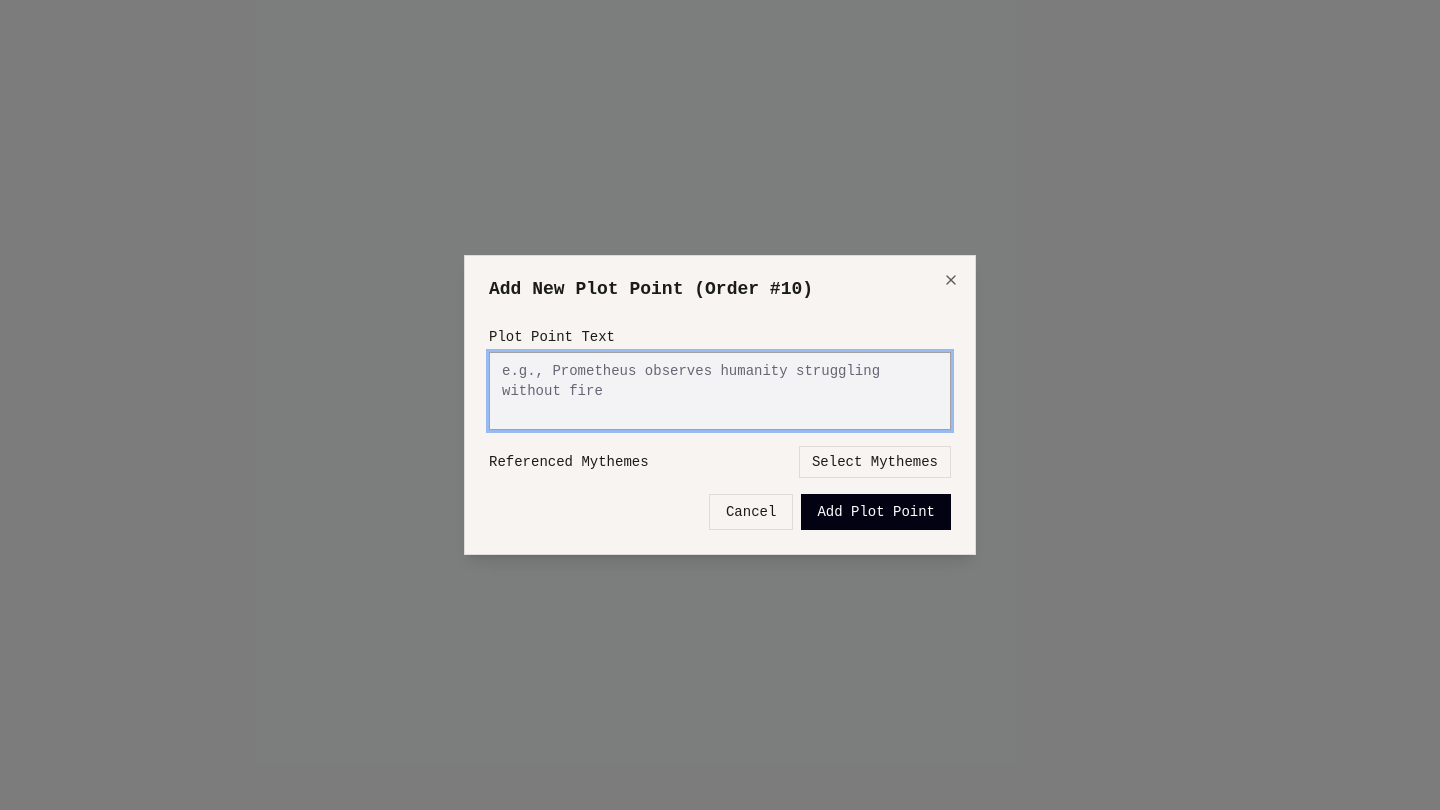
Scenario: AddPlotPointDialog › allows removing mythemes and handles submission error
Type "Zeus notices the theft." into the text box labelled "Plot Point Text" at (720, 391), box [489, 352, 951, 430]
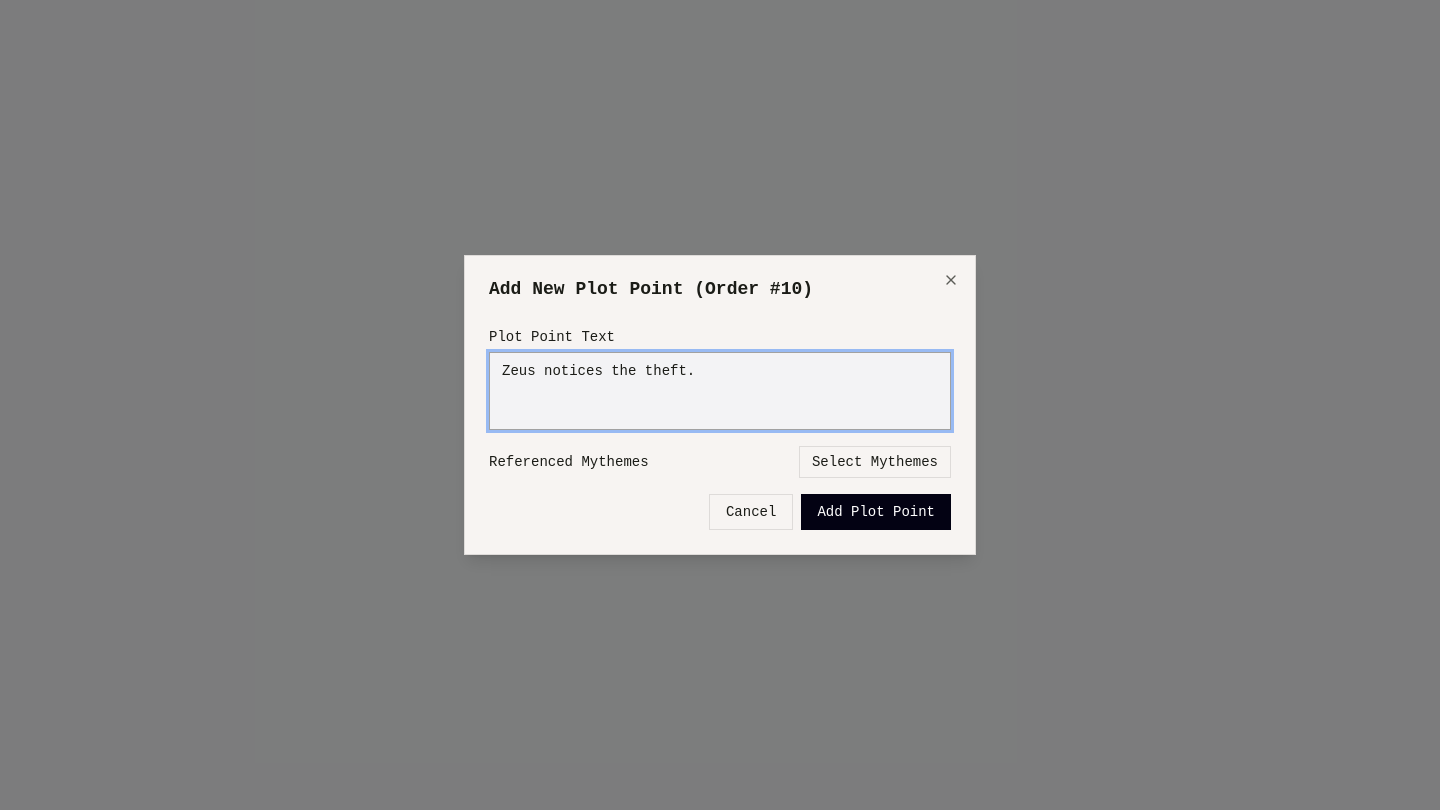
Click the button "Select Mythemes" at (875, 462), box [799, 446, 951, 478]
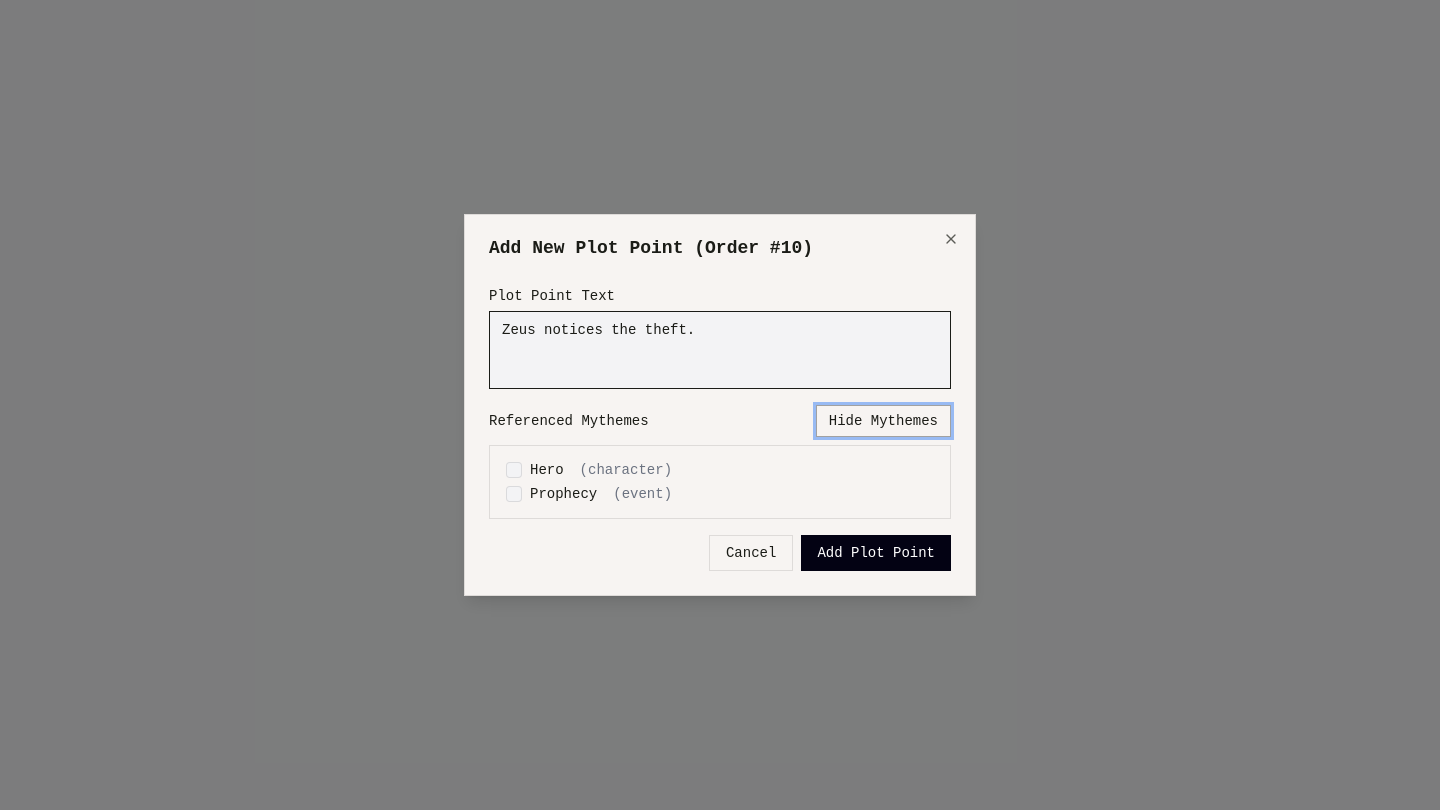
Click the checkbox named "hero" next to "Hero" at (514, 470), box [506, 462, 522, 478]
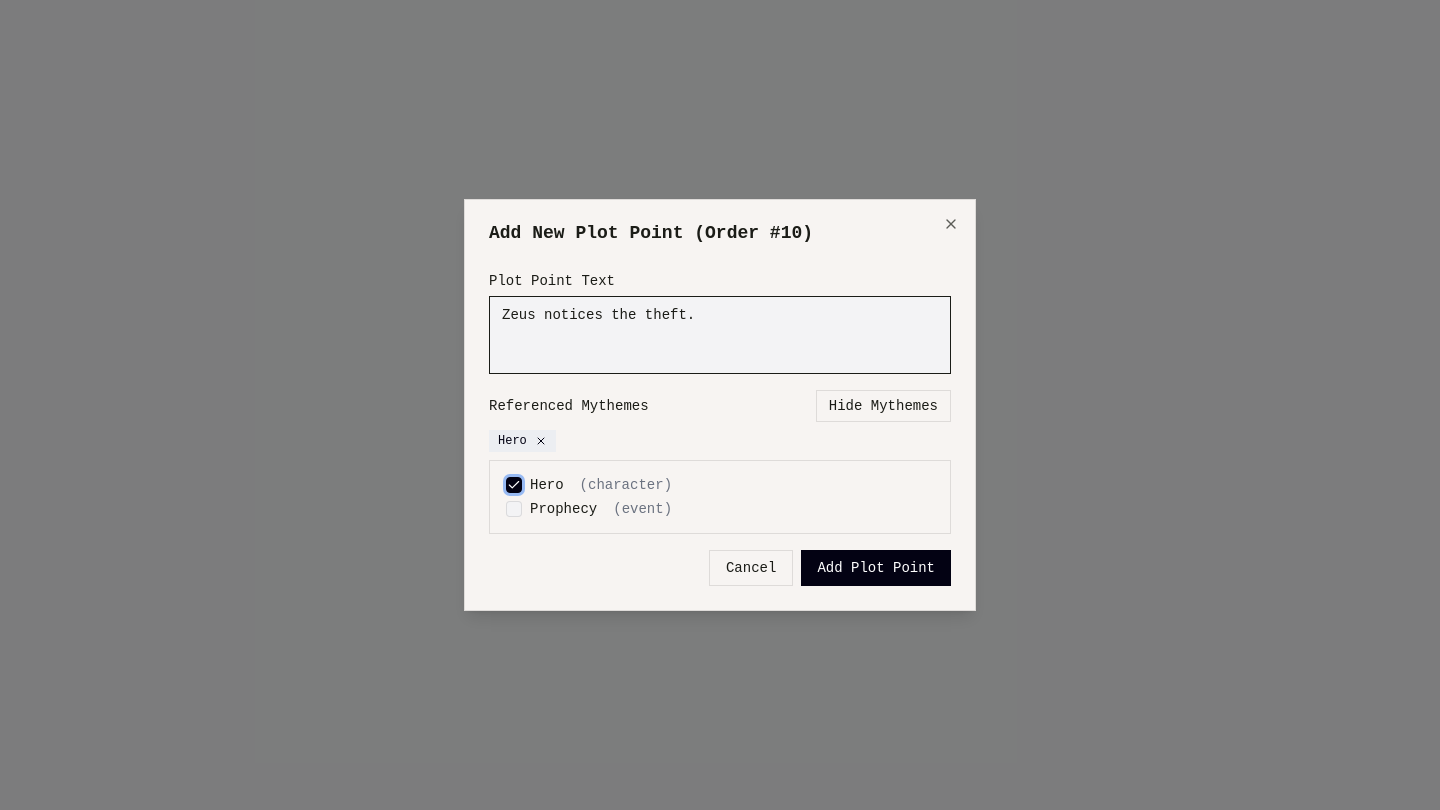
Click the checkbox named "hero" in the row of "character" at (514, 485), box [506, 477, 522, 493]
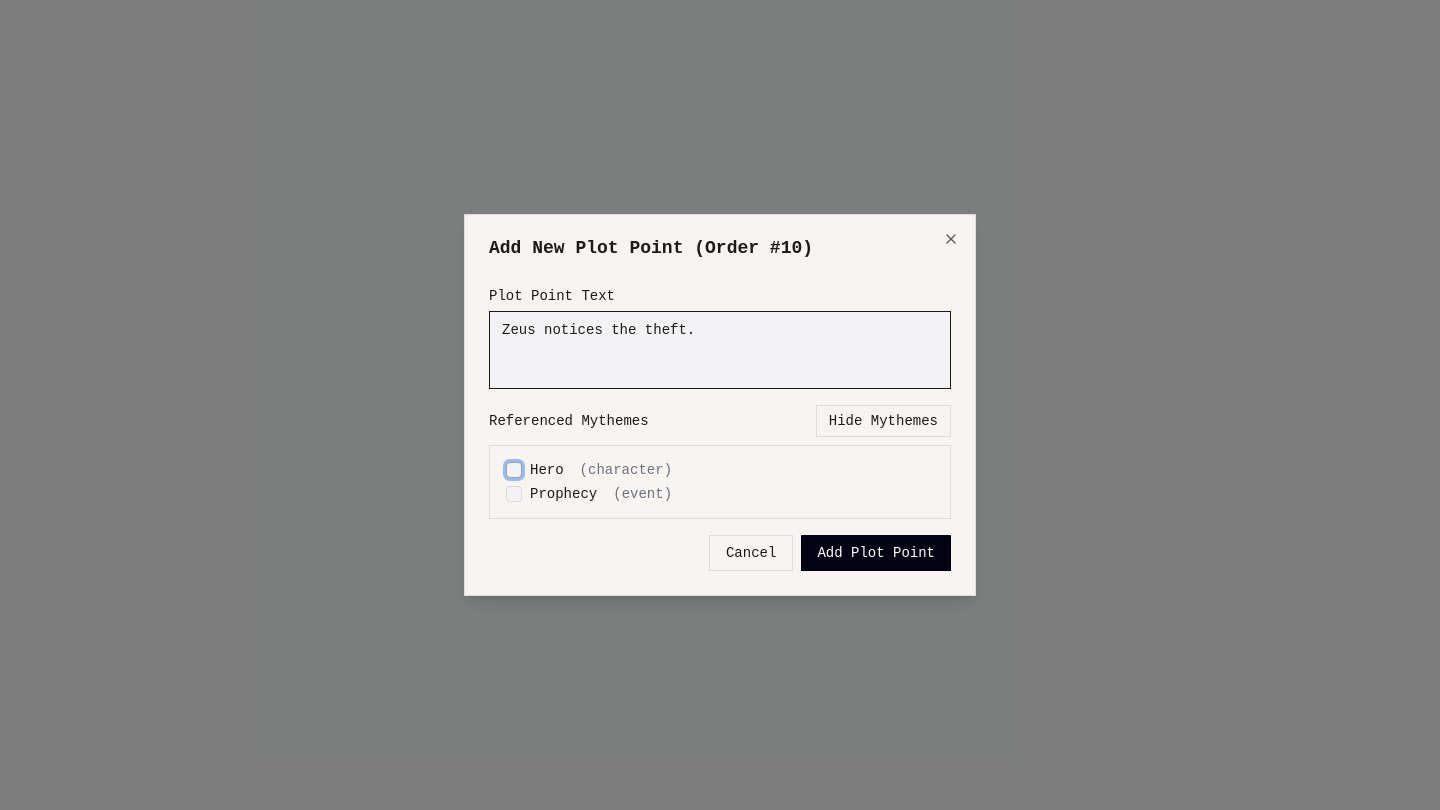
Click the button "Add Plot Point" at (876, 553), box [801, 535, 951, 571]
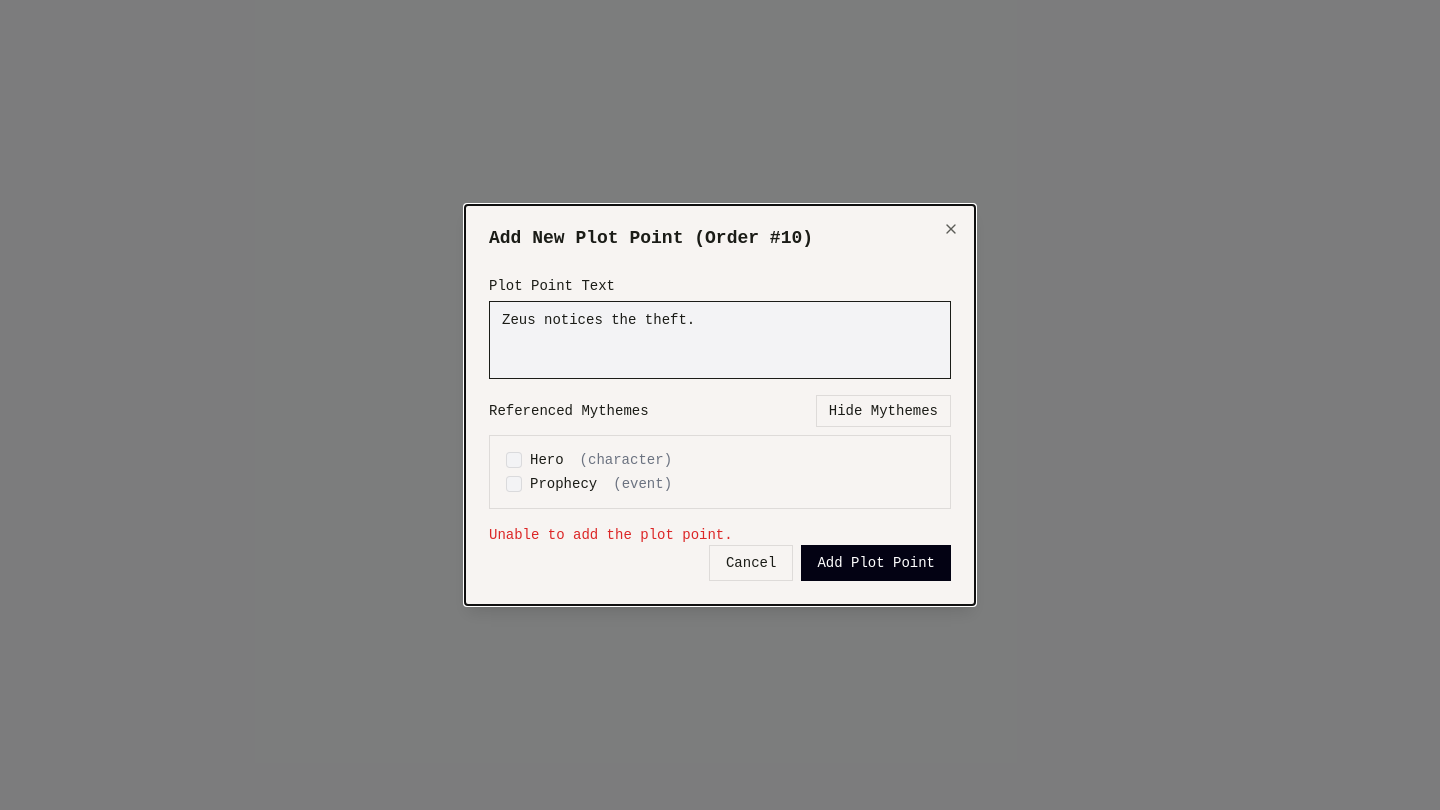
Now the text "Unable to add the plot point." is shown, box [489, 527, 733, 543]
